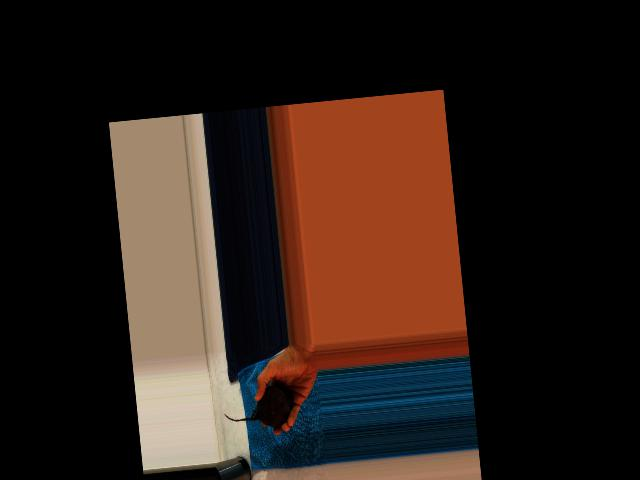beet: (222, 384, 296, 432)
